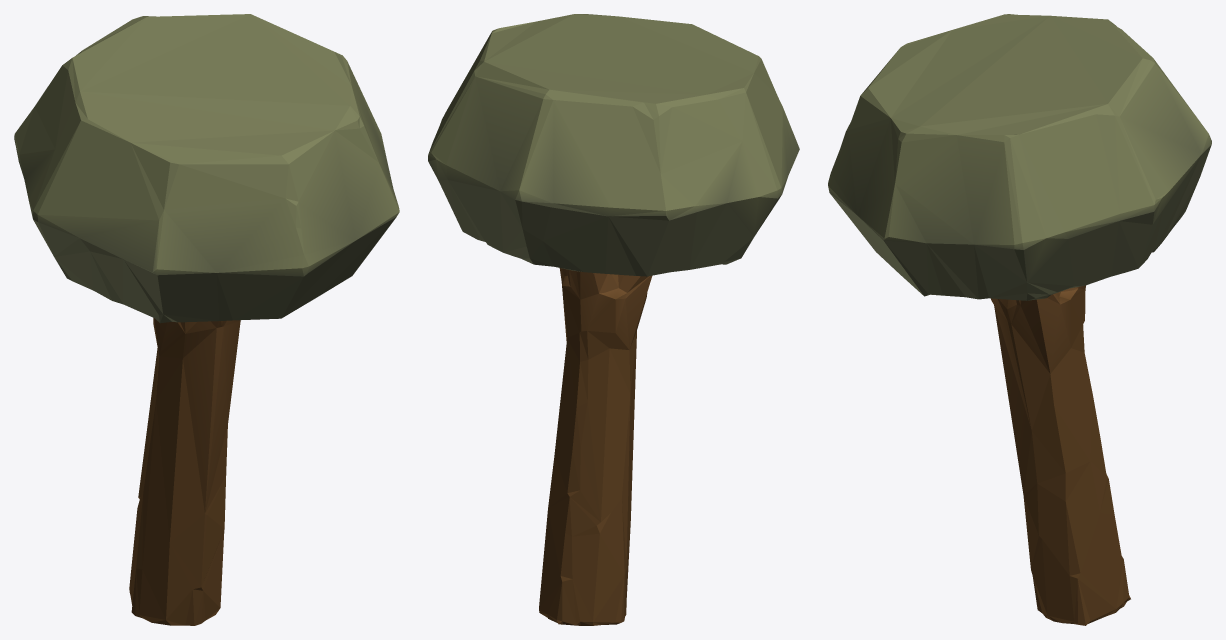
Rendered from Trees(1).glb.
3 renders of one model, left to right at view 1: azimuth 30°, elevation 25°; view 2: azimuth 150°, elevation 25°; view 3: azimuth 270°, elevation 25°, orthographic. The views are drawn at different scales.
Visible parts, largest first — view 1: Root; view 2: Root; view 3: Root.
Part boxes in pixels (x1,y1,x2,y2): Root: (14, 14, 399, 625); Root: (428, 14, 799, 625); Root: (828, 14, 1211, 625).
Size of the model in its own units: 1.85 by 2.93 by 1.84.
